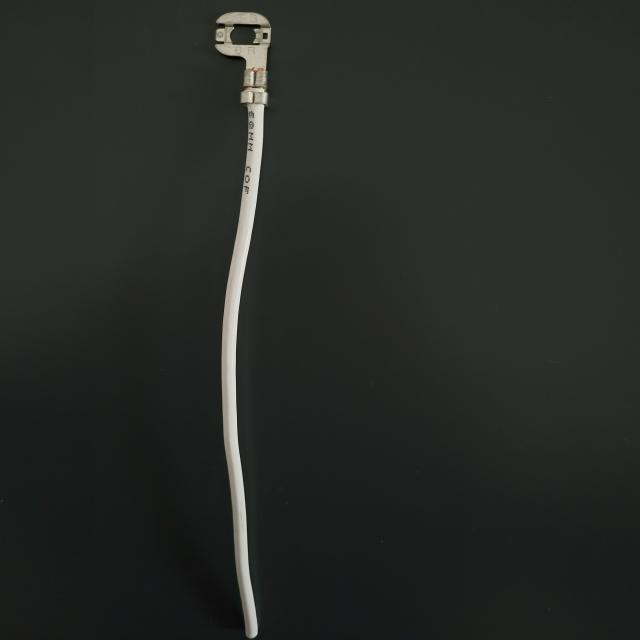good: (19, 3, 640, 640)
